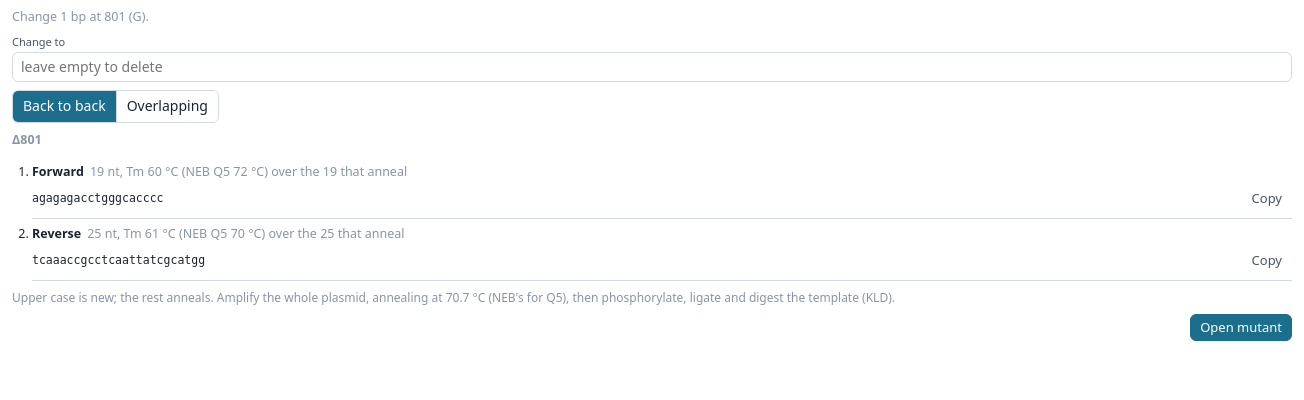
MutagenesisPanel › reads a U as T and names what it leaves out (#146)
The image size is (1304, 400).
Type "u" into the field labelled "Change to" at (652,67), box top-left (12, 52), bottom-right (1292, 82)
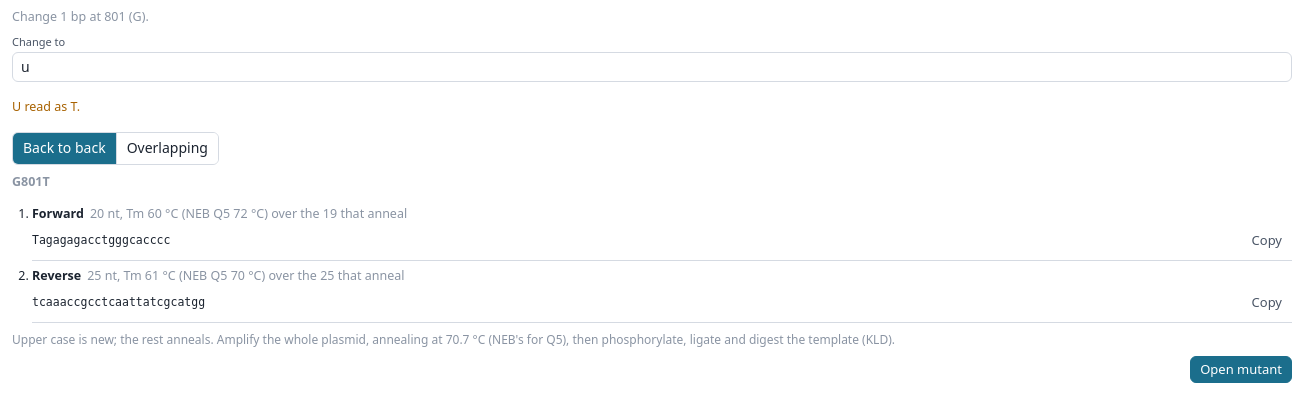
Expected: the text "U read as T." is shown, top-left (12, 98), bottom-right (80, 115)
Replace the text in the field labelled "Change to" with "gu!" at (652,67), box top-left (12, 52), bottom-right (1292, 82)
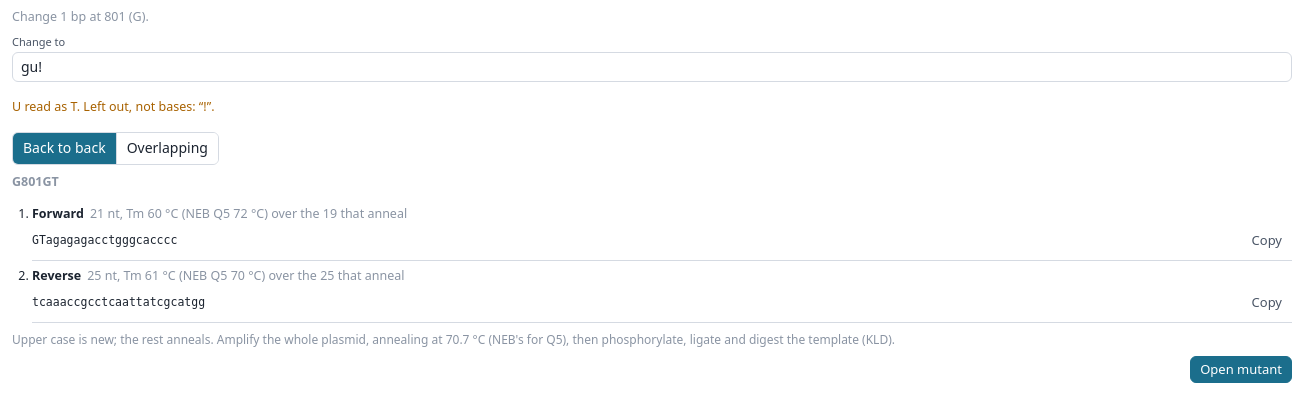
Expected: the text "U read as T. Left out, not bases: “!”." is shown, top-left (12, 98), bottom-right (214, 115)
